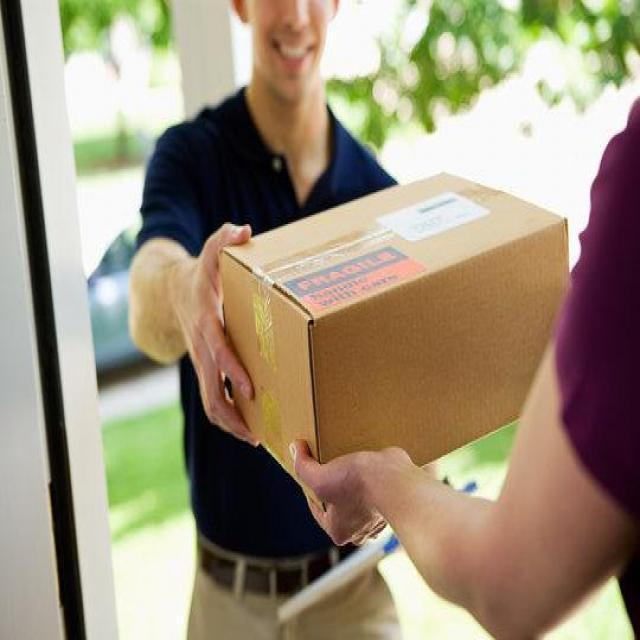box: (211, 160, 579, 514)
